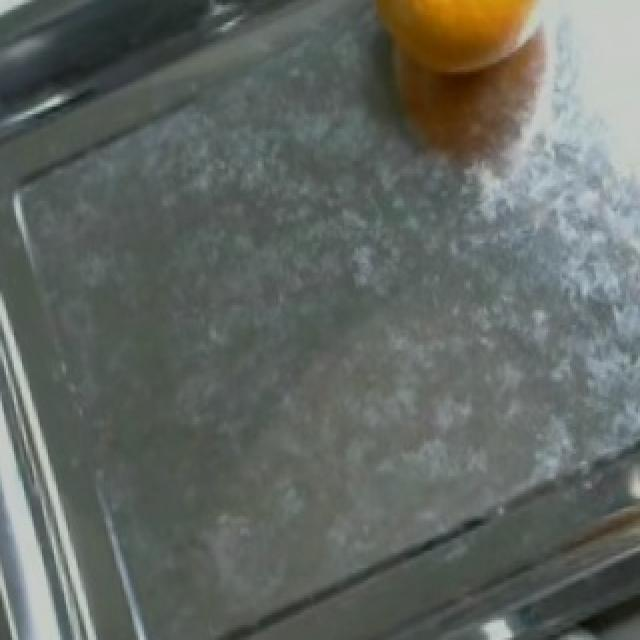Fruit: (348, 2, 566, 102), (338, 0, 574, 30)
